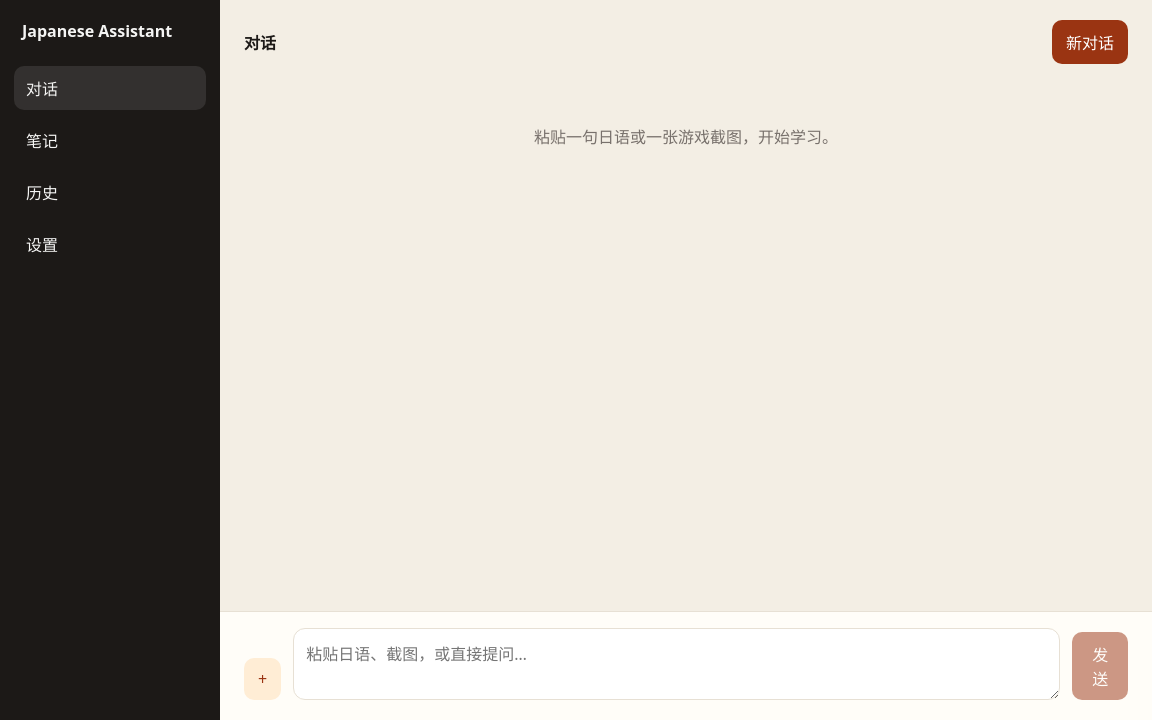
Test case: history conversation open › keeps History conversation after a deferred send completes
Type "hello" into the text box named "消息输入" at (677, 664), box [293,628,1060,700]
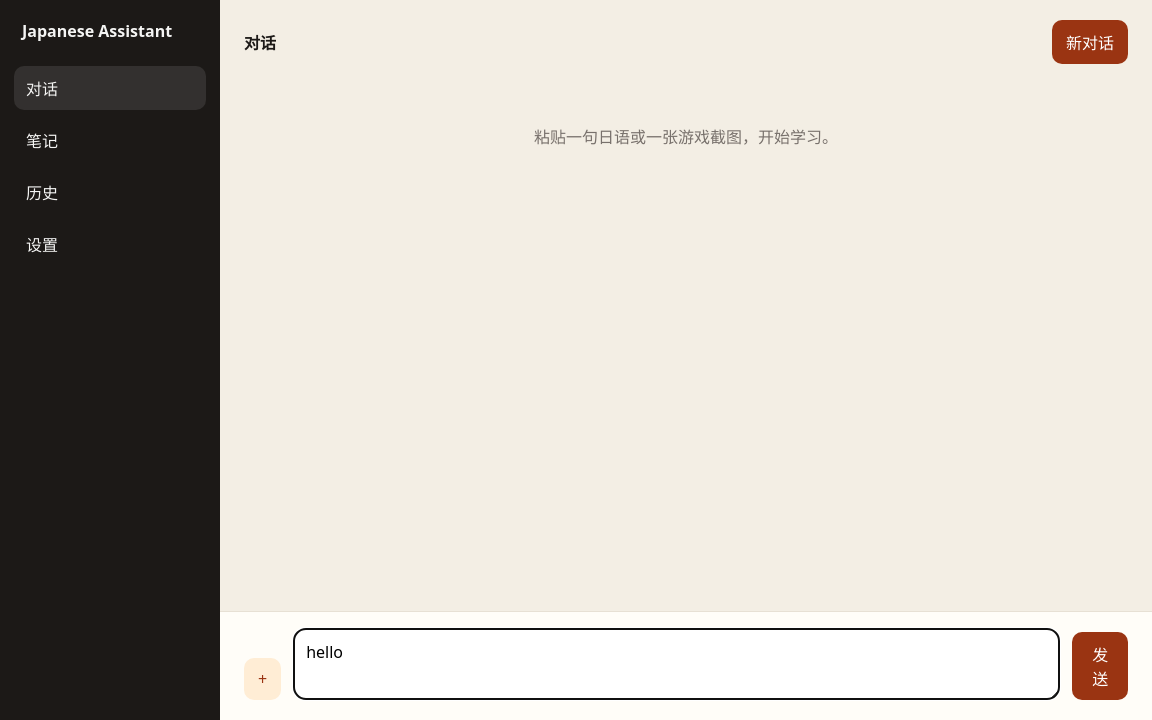
Click the button "发送" at (1100, 666), box [1072,632,1128,700]
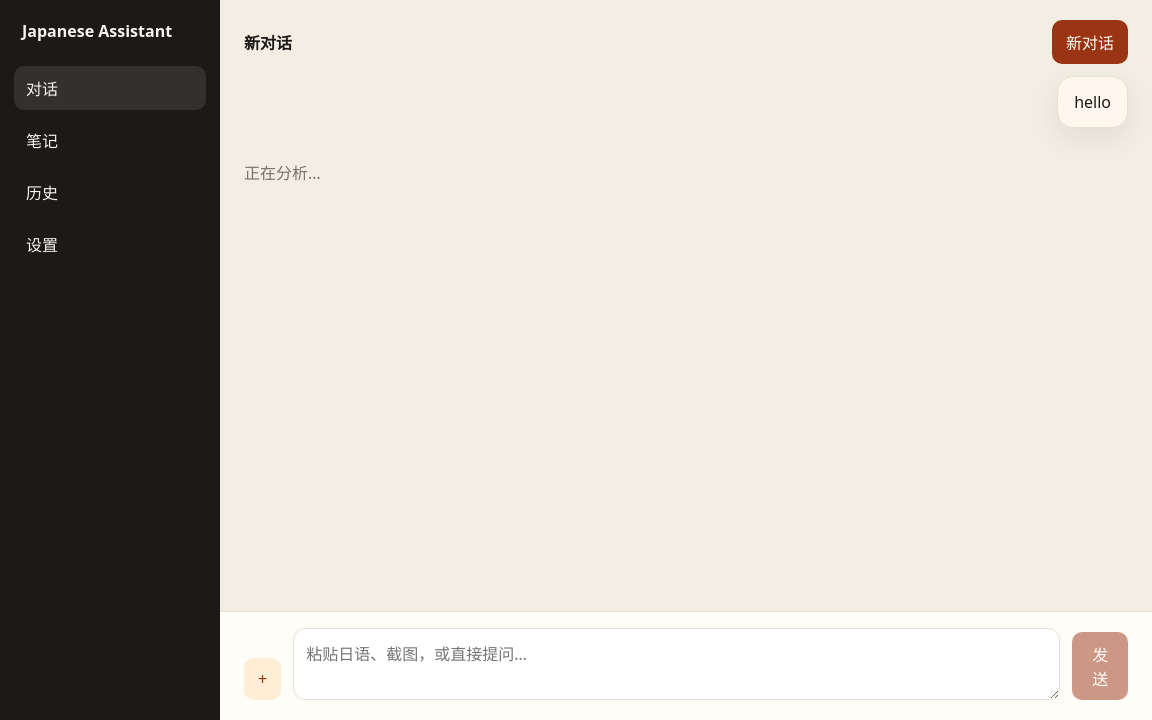
Expected: the text "hello" is shown, [1074,91,1111,113]
Click the button "历史" at (110, 192), box [14,170,206,214]
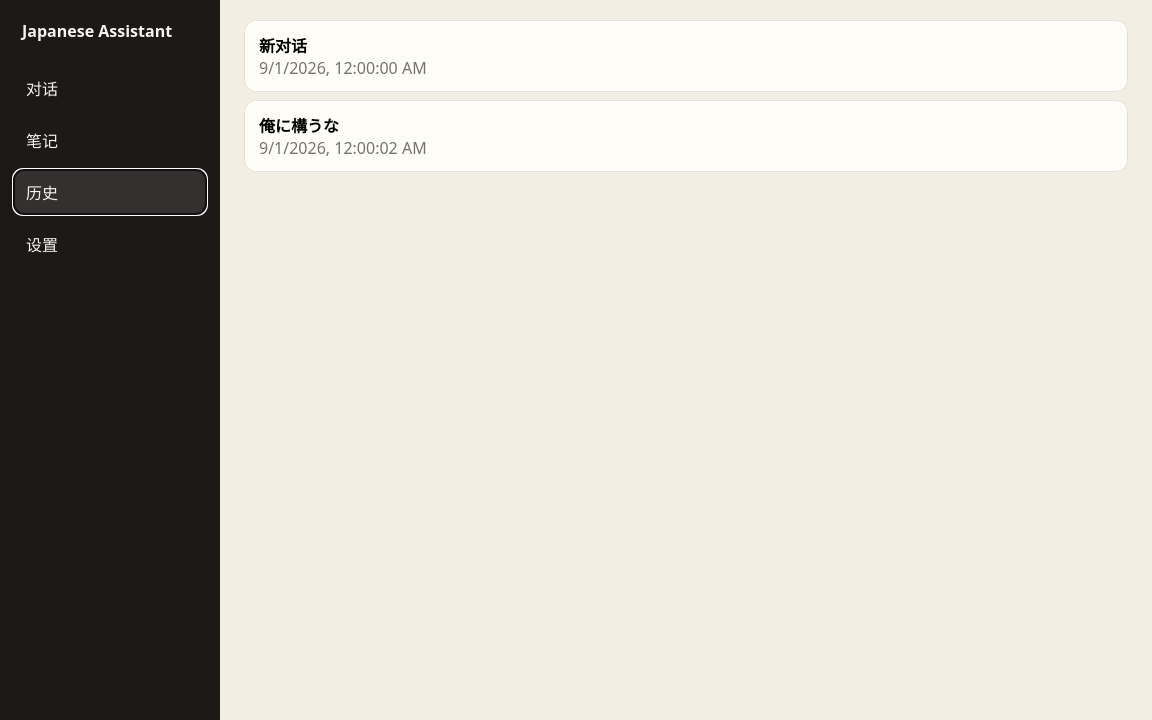
Click the button "俺に構うな 9/1/2026, 12:00:02 AM" at (299, 126), box [244,100,1128,172]
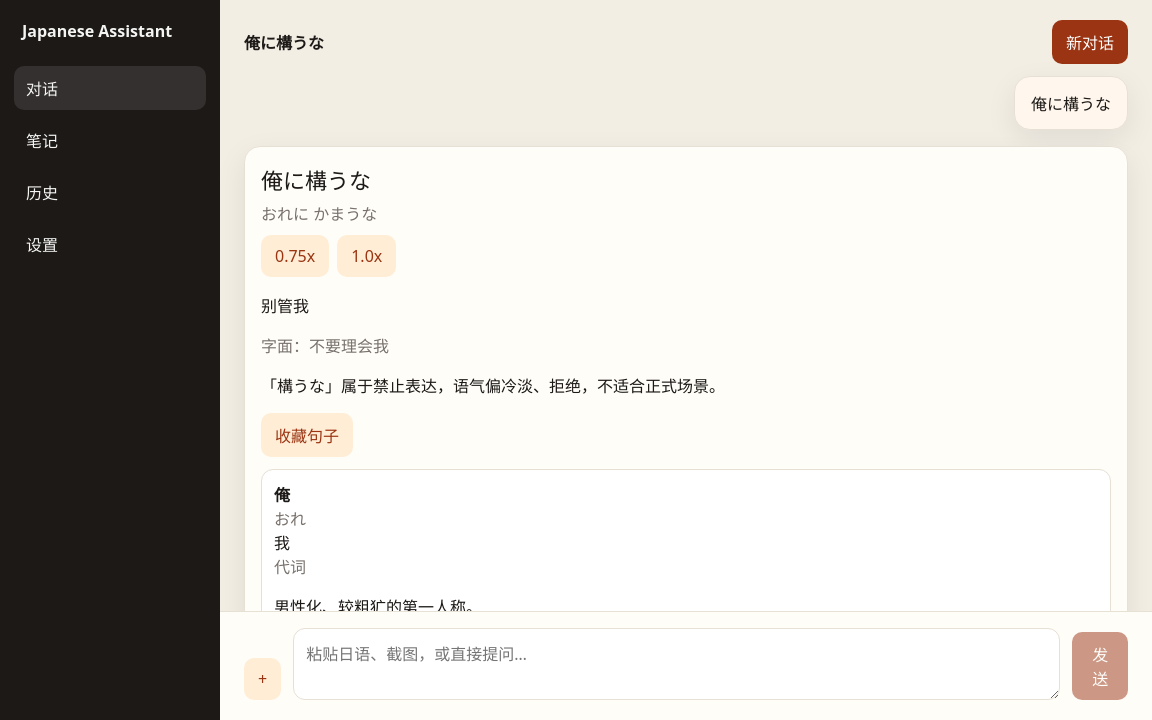
Expected: the text "粘贴一句日语或一张游戏截图，开始学习。" is not shown
Expected: the text "别管我" is shown, [261,295,309,317]
